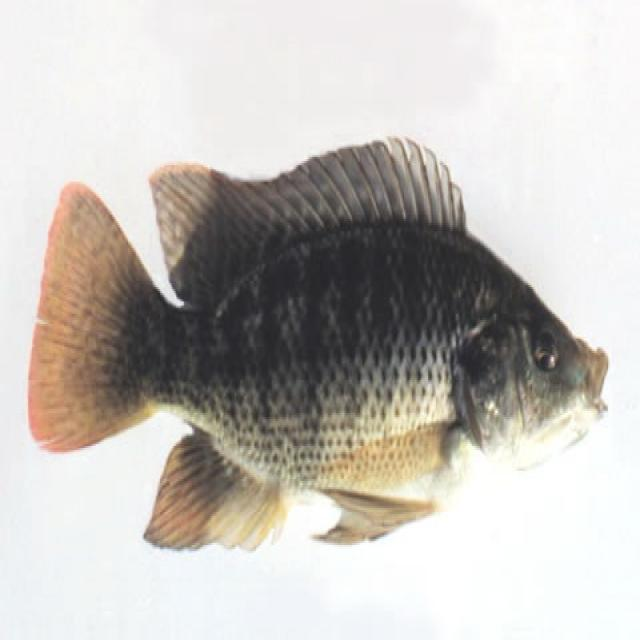ikan: (27, 132, 609, 553)
